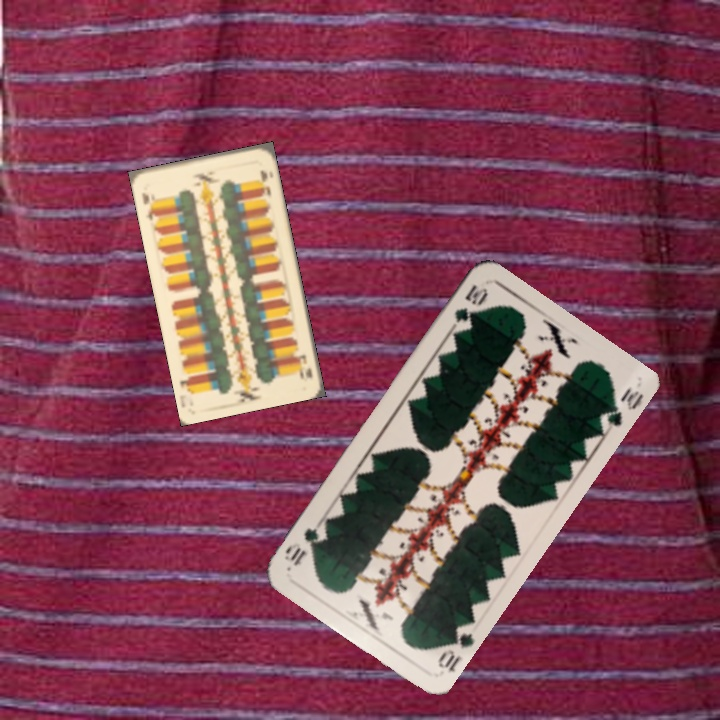E10: (137, 188, 160, 223), (293, 350, 315, 382)
G10: (447, 280, 491, 335), (433, 620, 477, 674)
